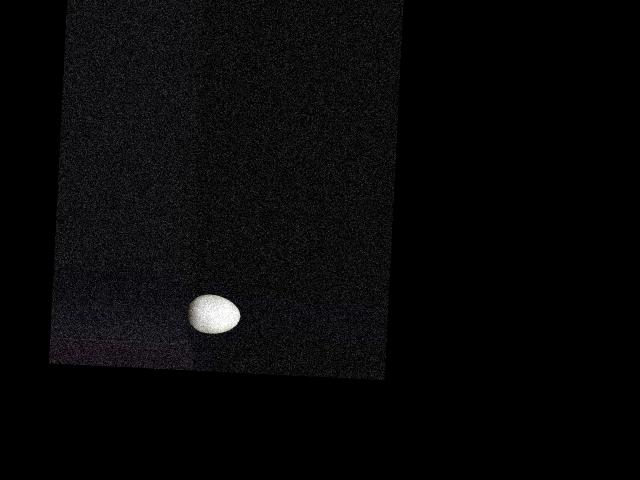egg: (185, 294, 240, 334)
